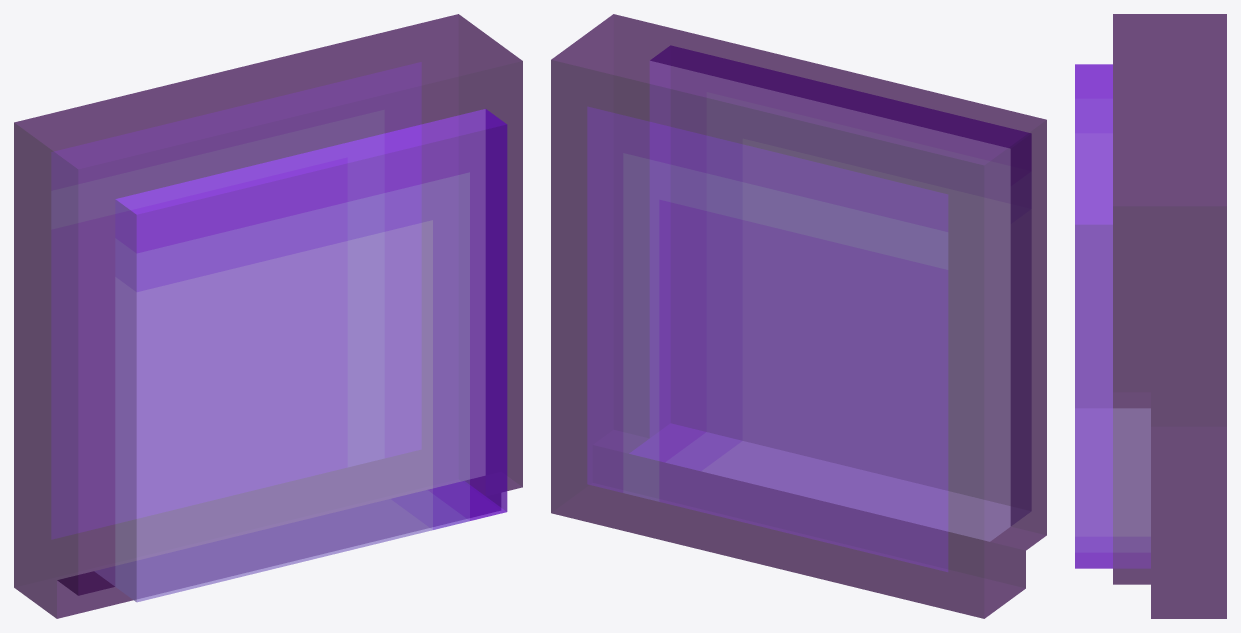
File: screen_purple.glb
The picture shows the model from 3 angles, left to right: view 1: azimuth 30°, elevation 25°; view 2: azimuth 150°, elevation 25°; view 3: azimuth 270°, elevation 25°; orthographic projection. The views are drawn at different scales.
Parts seen in each view (by area): view 1: bb0 screen; view 2: bb0 screen; view 3: bb0 screen.
Boxes of the visible parts, <box> form: bb0 screen: <box>14,14,522,618</box>; bb0 screen: <box>551,14,1046,618</box>; bb0 screen: <box>1075,14,1226,618</box>.
Bounding box in the file's own units: 12 × 12 × 4.
